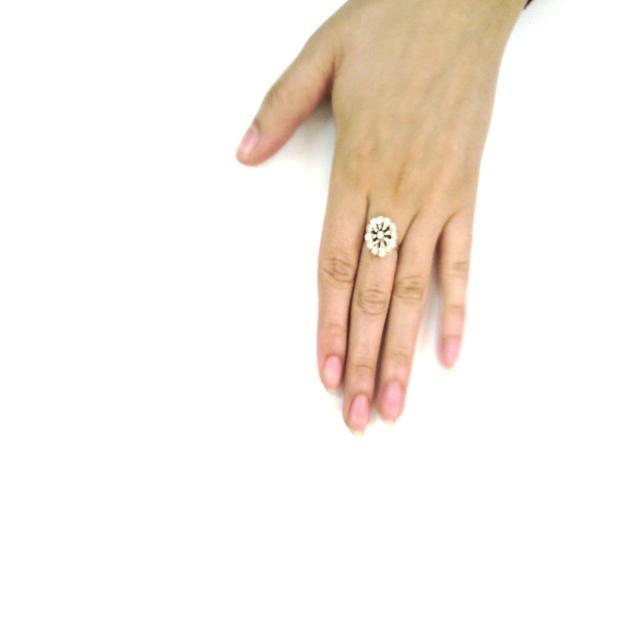Fingernail: (349, 395, 369, 435), (381, 383, 402, 421), (324, 356, 342, 391), (239, 125, 258, 155), (444, 338, 458, 367)
